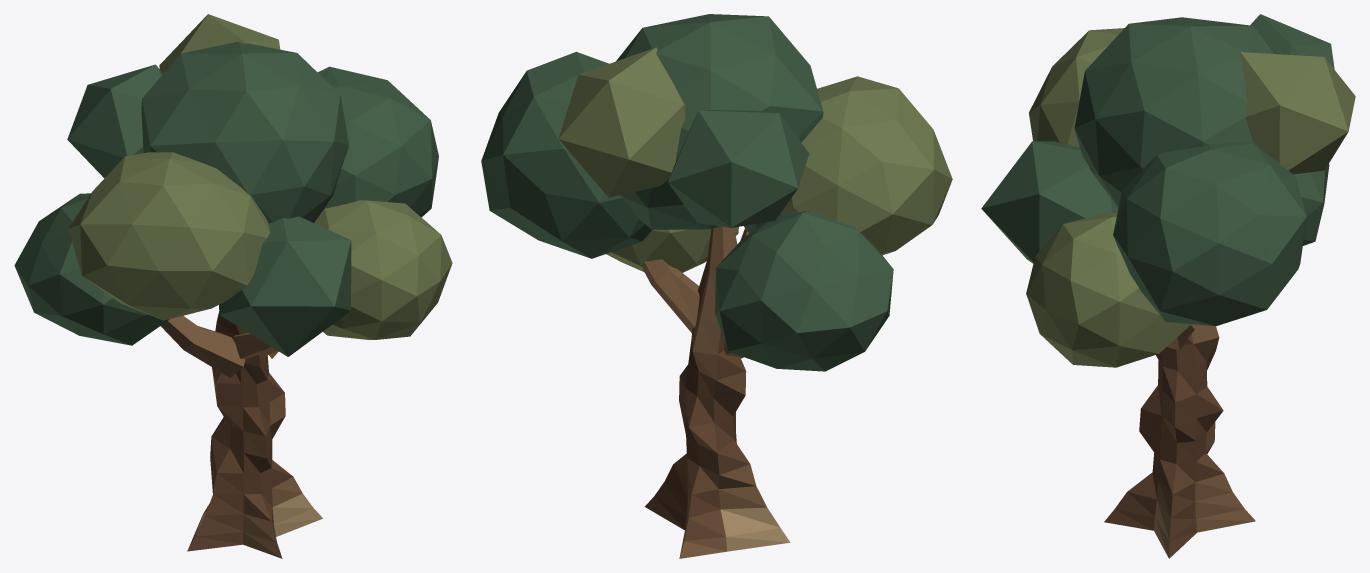
The model's file is oak_tree.glb.
3 renders of one model, left to right at view 1: azimuth 30°, elevation 25°; view 2: azimuth 150°, elevation 25°; view 3: azimuth 270°, elevation 25°, orthographic. The views are drawn at different scales.
Size of the model in its own units: 5.14 by 6.17 by 4.22.
